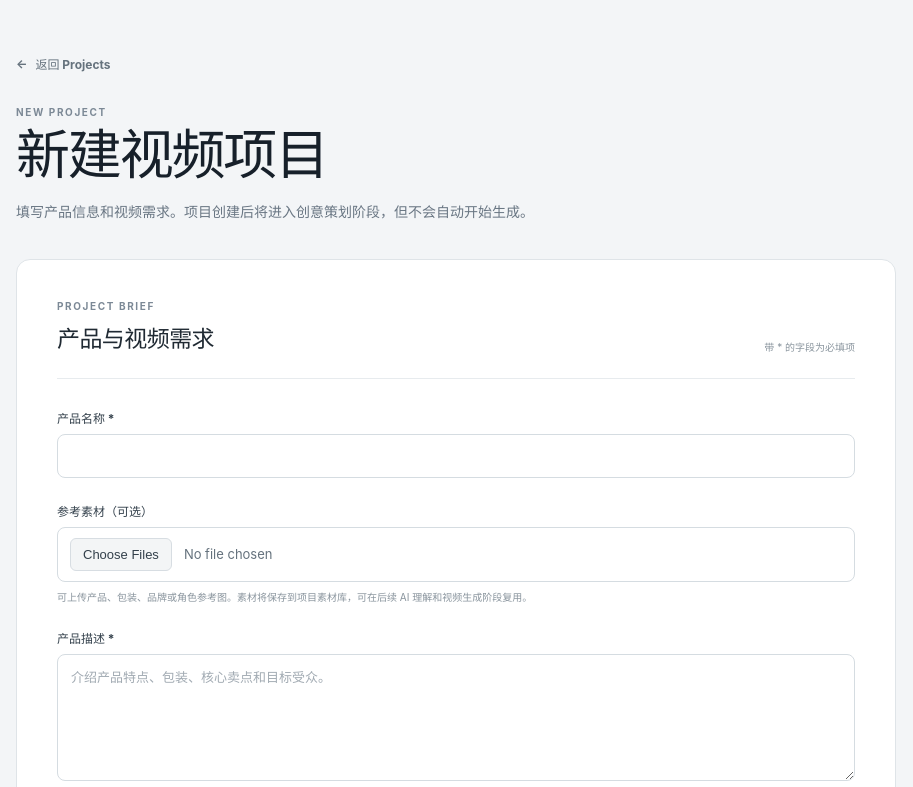
CreateProjectPage › shows a safe correlation ID
Type "  测试柠檬  " into the field labelled "产品名称 *". click: [456, 456]
box: [57,434,855,478]
Type "  新鲜柠檬饮料  " into the text box labelled "产品描述 *". click: [456, 717]
box: [57,654,855,781]
(page scrolled)
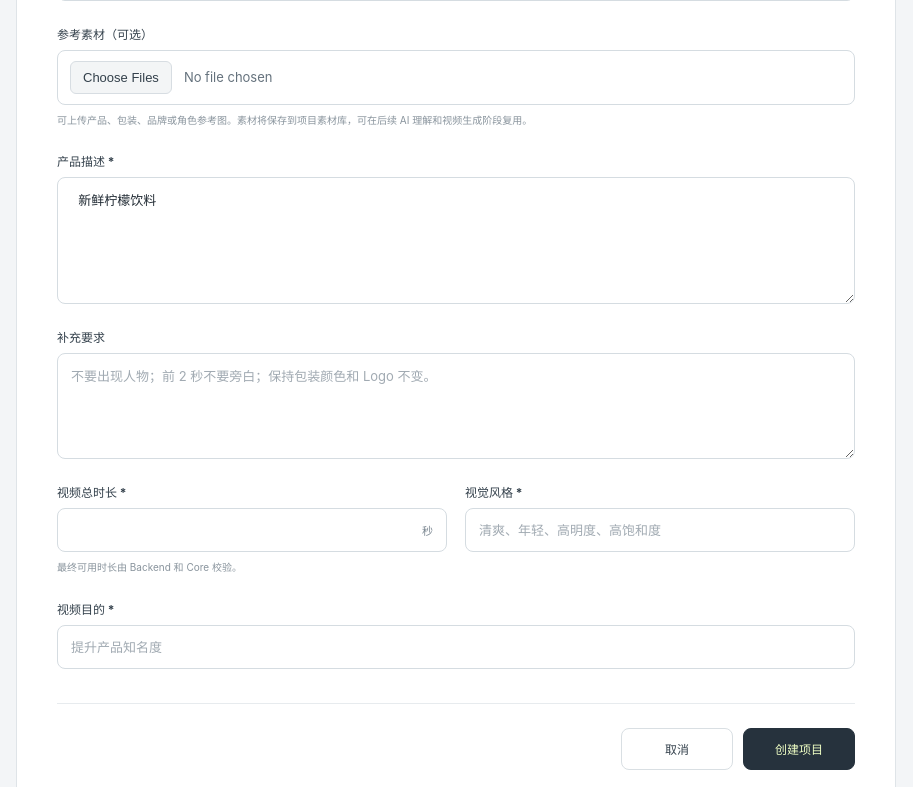
Type "  不要出现人物  " into the text box labelled "补充要求". click: [456, 406]
box: [57,353,855,459]
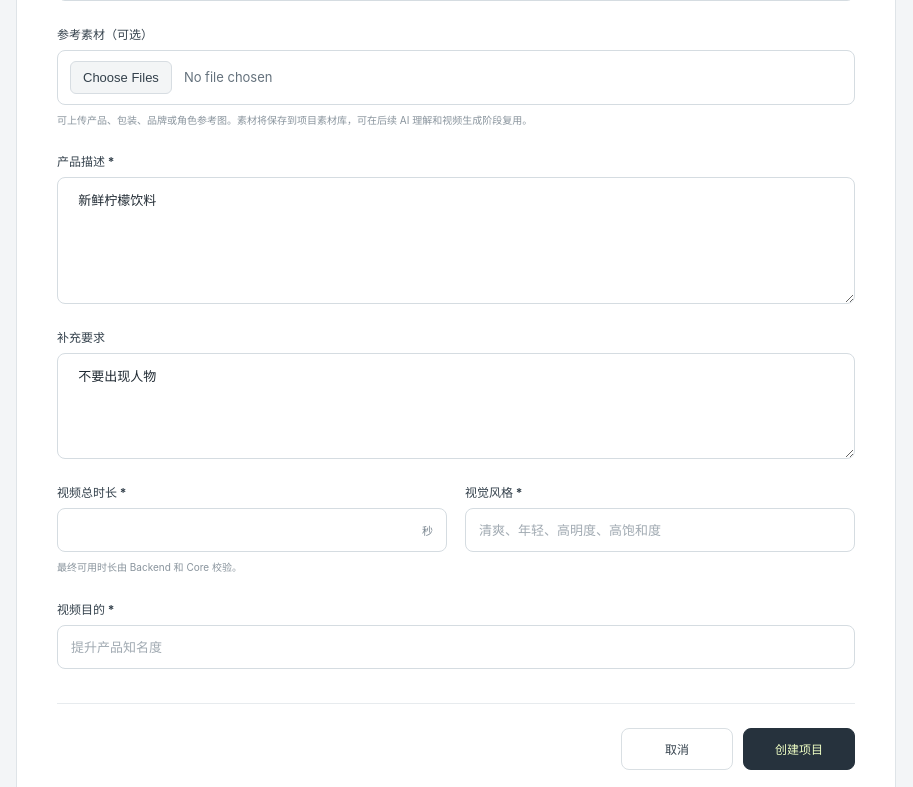
Type "18" into the number field labelled "视频总时长 *". click: [252, 530]
box: [57,508,447,552]
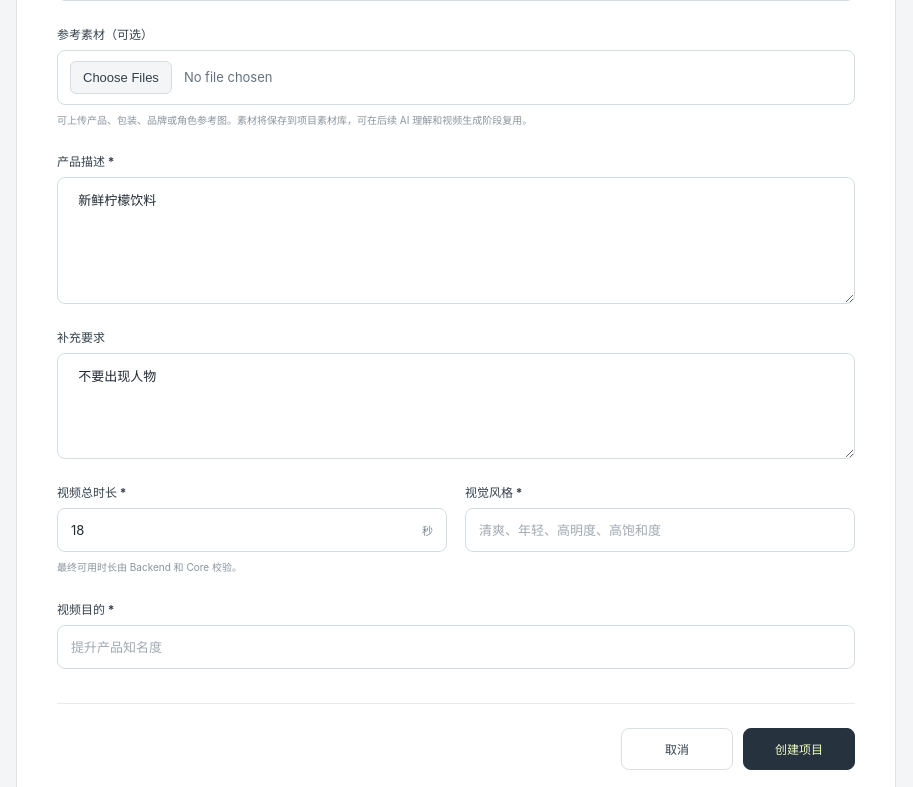
Type "  清爽、年轻  " into the field labelled "视觉风格 *". click: [660, 530]
box: [465,508,855,552]
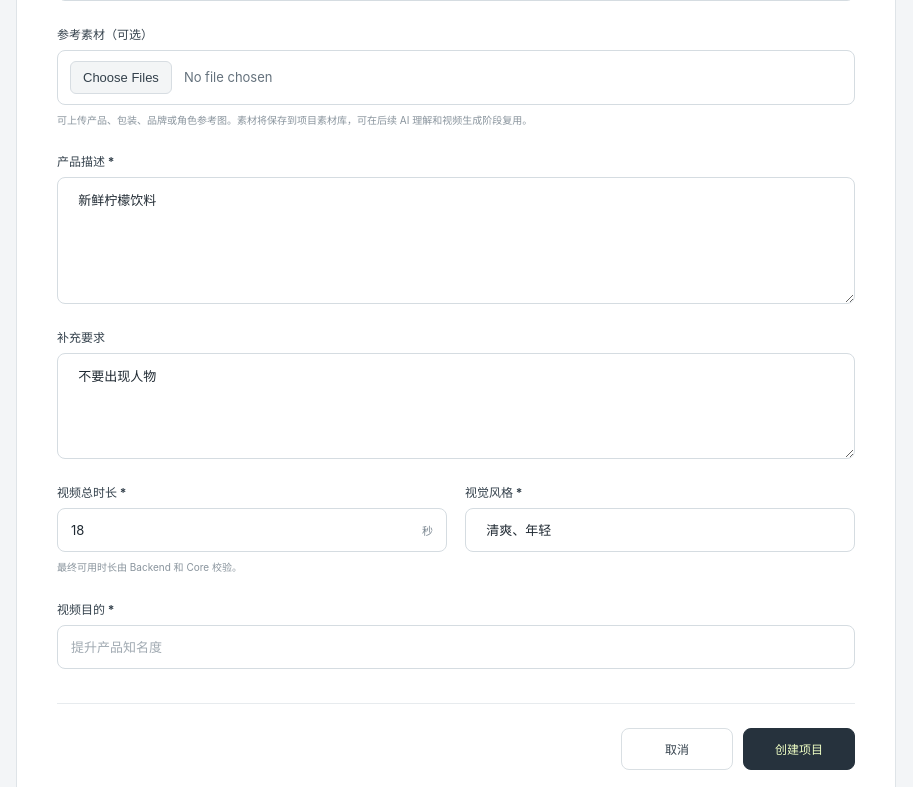
Type "  提升产品知名度  " into the field labelled "视频目的 *". click: [456, 647]
box: [57,625,855,669]
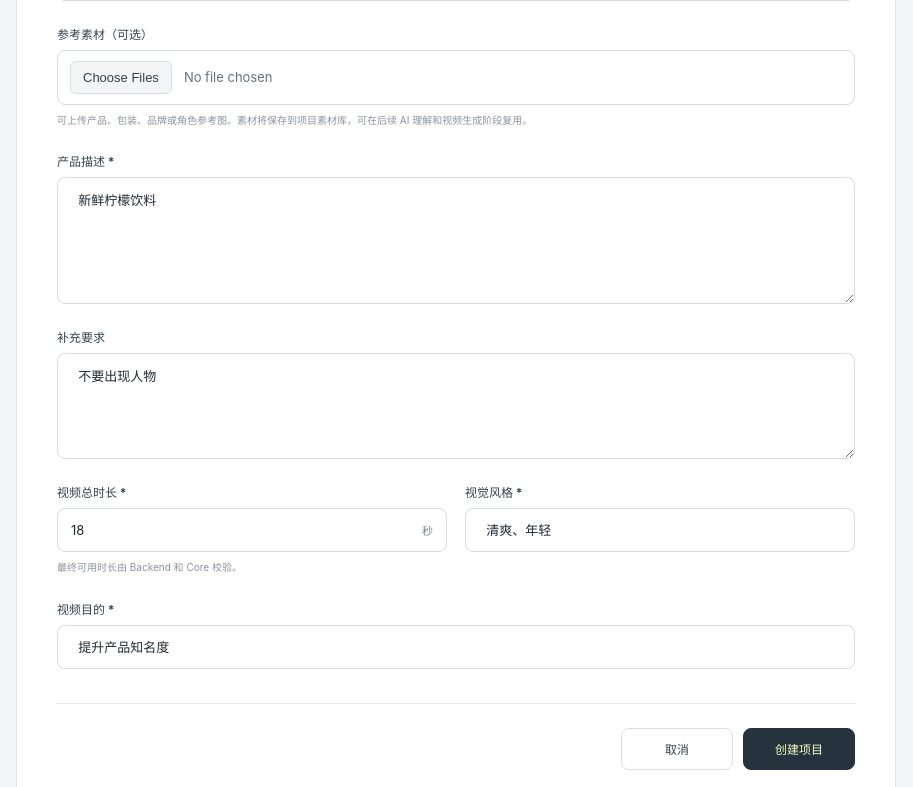
Click the button "创建项目". click: [799, 749]
box: [743,728,855,770]
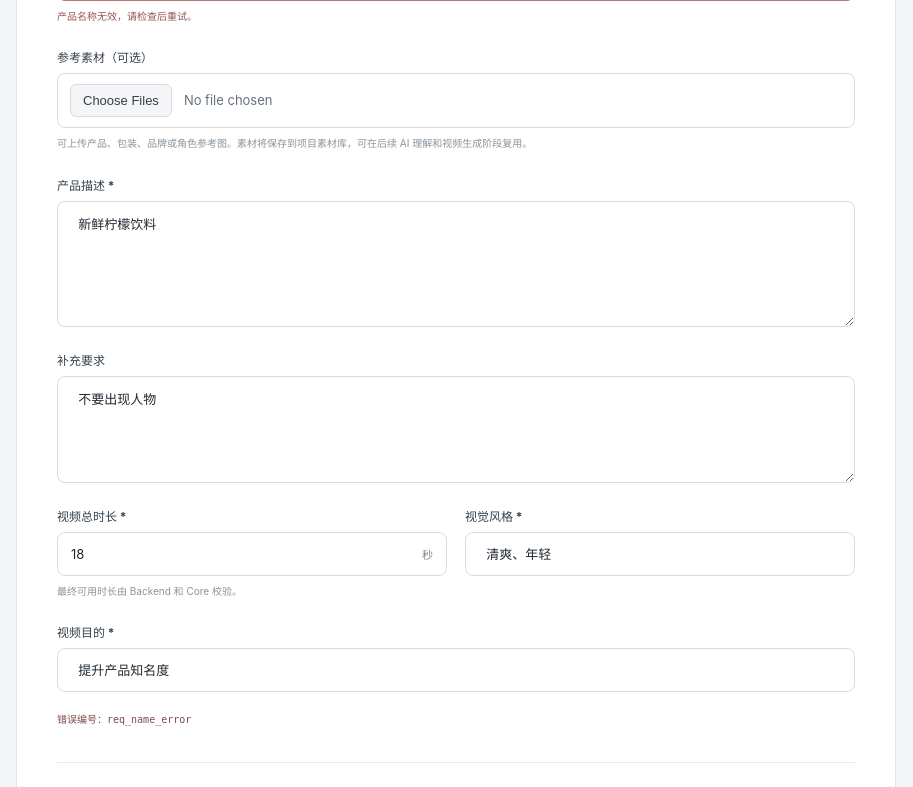
Check: the text "错误编号：req_name_error" is shown, box [57,714,191,725]
